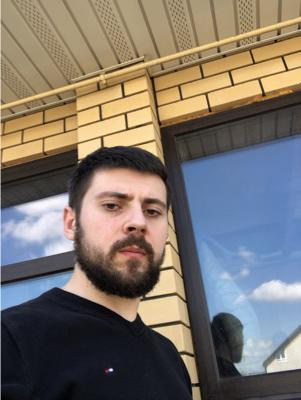without_mask: (78, 184, 167, 296)
